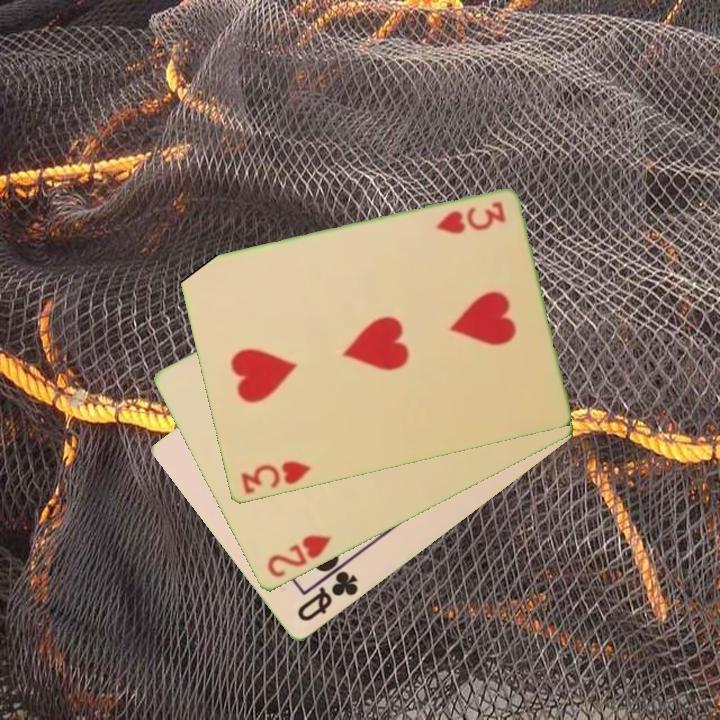2h: (263, 531, 335, 581)
3h: (237, 458, 313, 498), (432, 198, 508, 238)
Qc: (293, 568, 362, 626)
